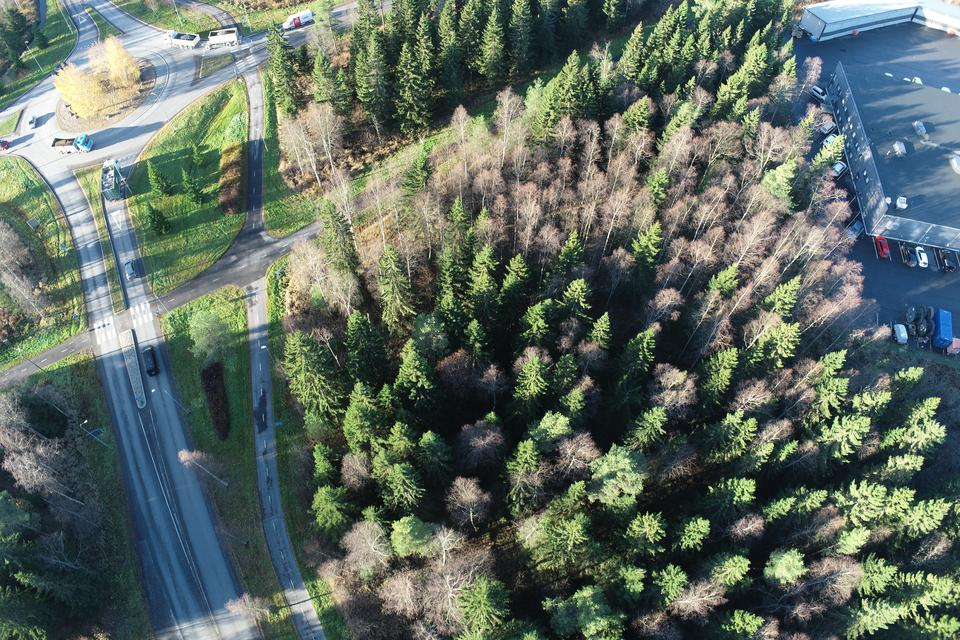intersection: (64, 279, 192, 397), (213, 22, 282, 95)
roundabout: (9, 14, 206, 201)
